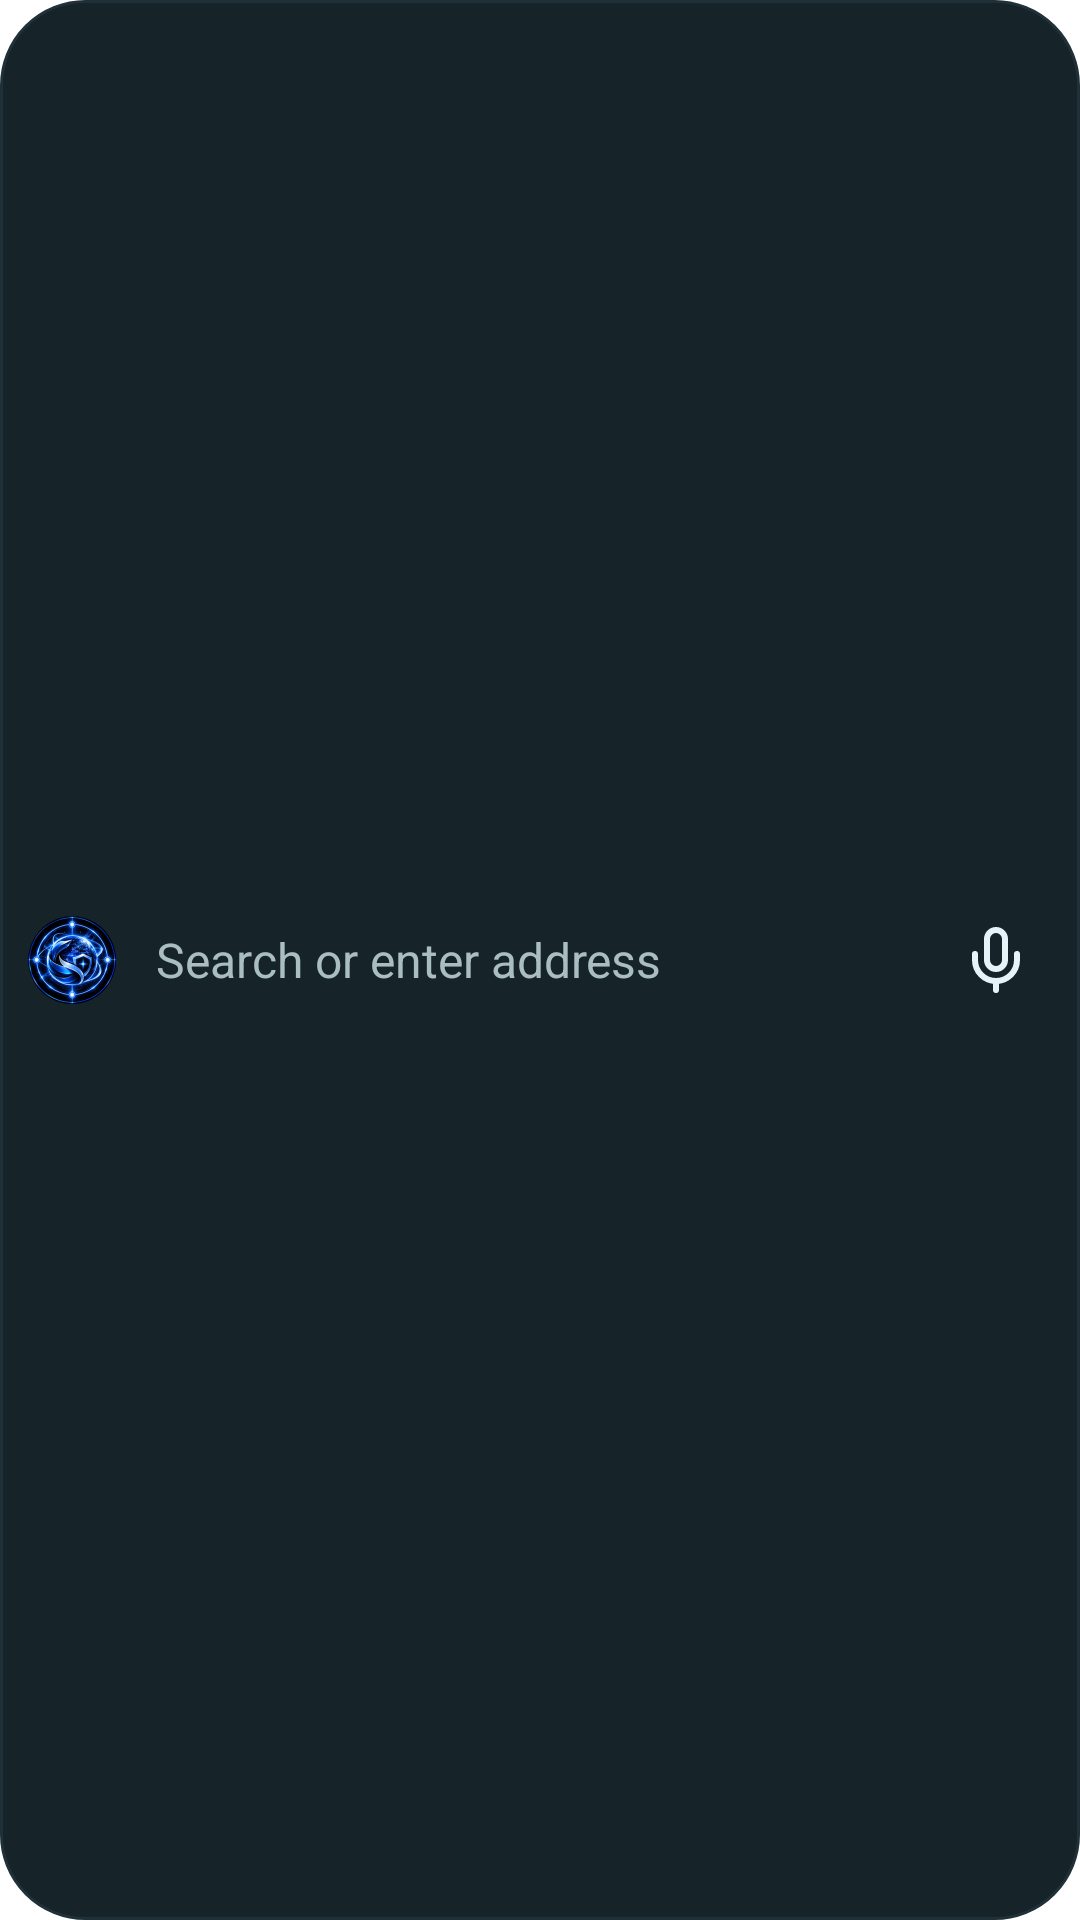

Icon bounding boxes for this 1080x1920 phone screenshot, format (x1, y1, x2, y2):
Voice search: (972, 927, 1020, 993)
